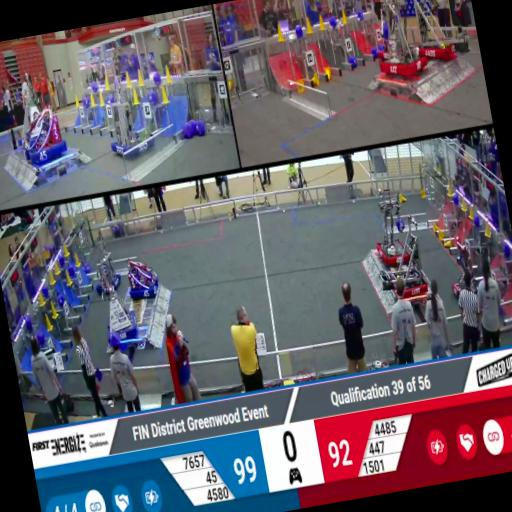robot: (96, 54, 161, 162), (371, 208, 431, 302), (363, 0, 429, 81), (405, 0, 474, 67), (92, 258, 142, 348), (366, 187, 419, 266), (7, 71, 55, 152), (14, 100, 70, 166), (442, 234, 486, 316), (364, 0, 414, 63), (86, 228, 122, 294), (121, 256, 161, 302)
